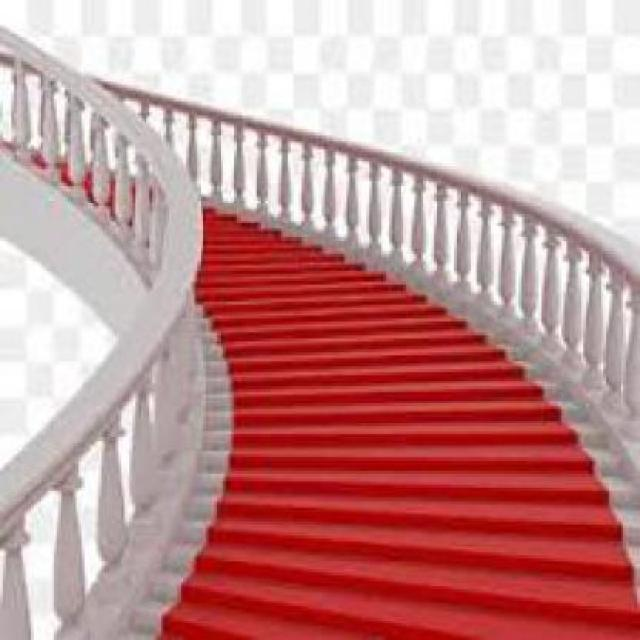stair: (175, 383, 603, 629)
